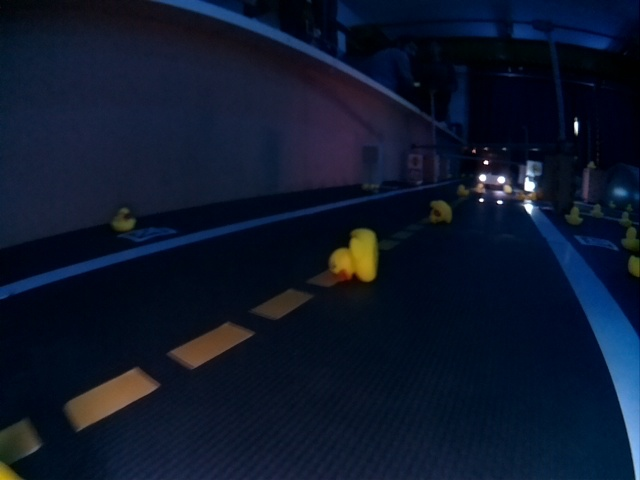Duckie: (332, 228, 379, 282), (430, 201, 453, 224), (113, 208, 134, 230), (622, 227, 639, 244), (566, 207, 582, 223)
QR code: (122, 226, 174, 242)
